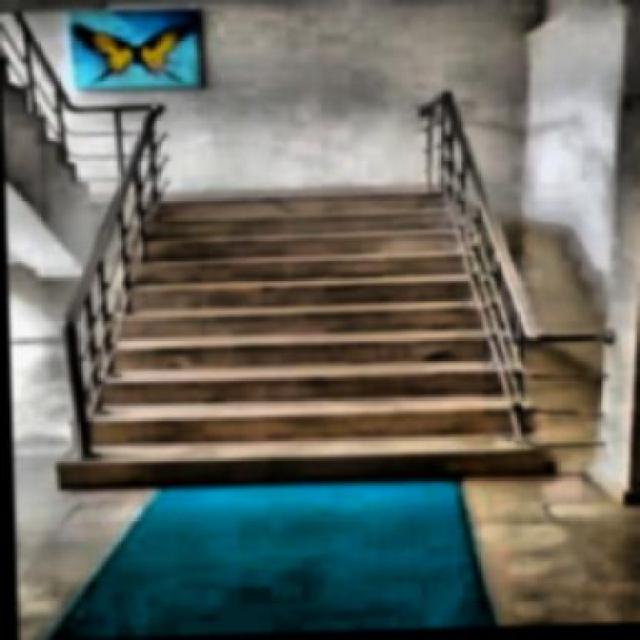stair: (103, 197, 531, 486)
